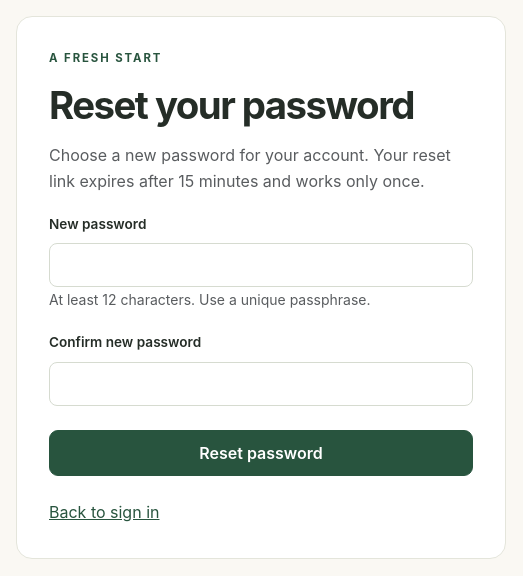
Test case: a successful reset clears the local session and offers sign in
Type "test-passphrase-one" into the password field labelled "New password" at (261, 265), box [49,243,473,287]
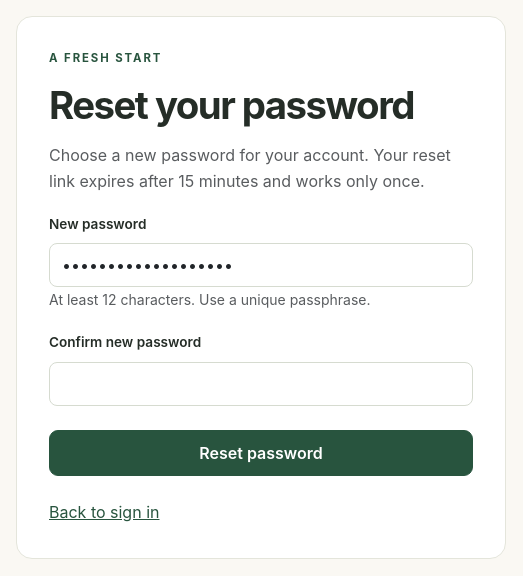
Type "test-passphrase-one" into the password field labelled "Confirm new password" at (261, 384), box [49,362,473,406]
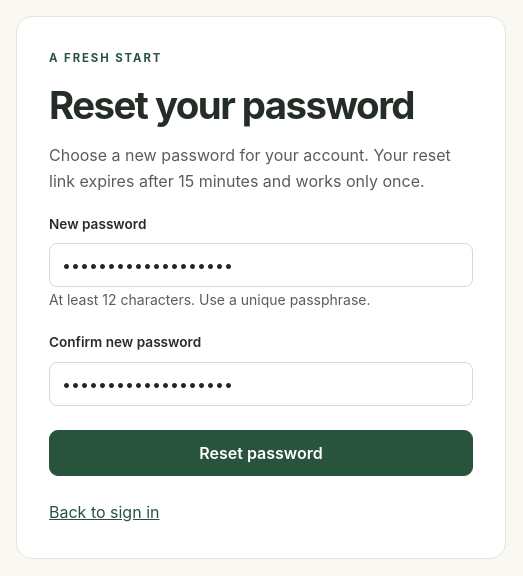
Click the button "Reset password" at (261, 453), box [49,430,473,476]
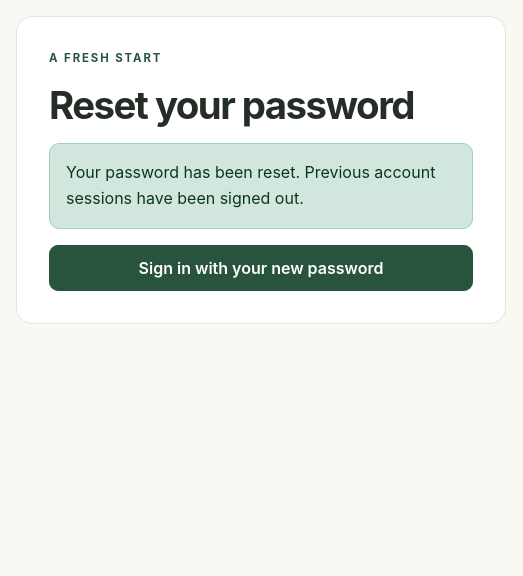
Expected: the text "Your password has been reset. Previous account sessions have been signed out." is shown, [49,143,473,228]
